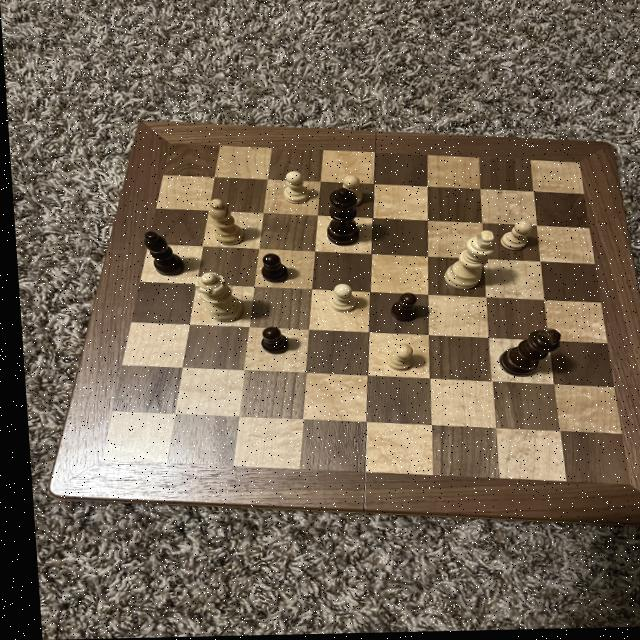bishop: (138, 229, 188, 281)
black-bishop: (493, 326, 563, 384)
black-knight: (253, 251, 293, 289), (253, 324, 291, 359), (384, 293, 417, 325)
black-pawn: (316, 187, 367, 250)
black-rook: (202, 195, 246, 253)
white-bishop: (434, 228, 500, 297)
white-knight: (495, 216, 536, 255), (378, 341, 416, 378), (319, 284, 360, 318), (333, 174, 365, 211), (279, 171, 310, 208)
white-pawn: (191, 270, 242, 324)
